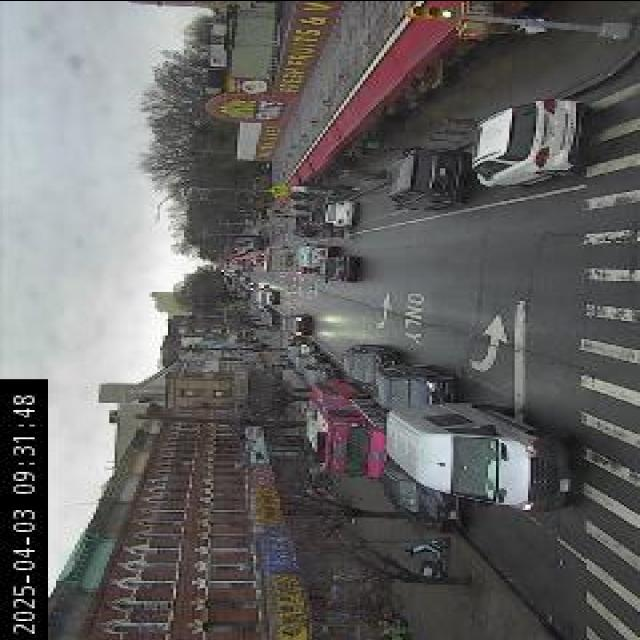open parking: (330, 168, 428, 218)
parkedCars: (398, 80, 576, 210), (281, 180, 367, 238)
